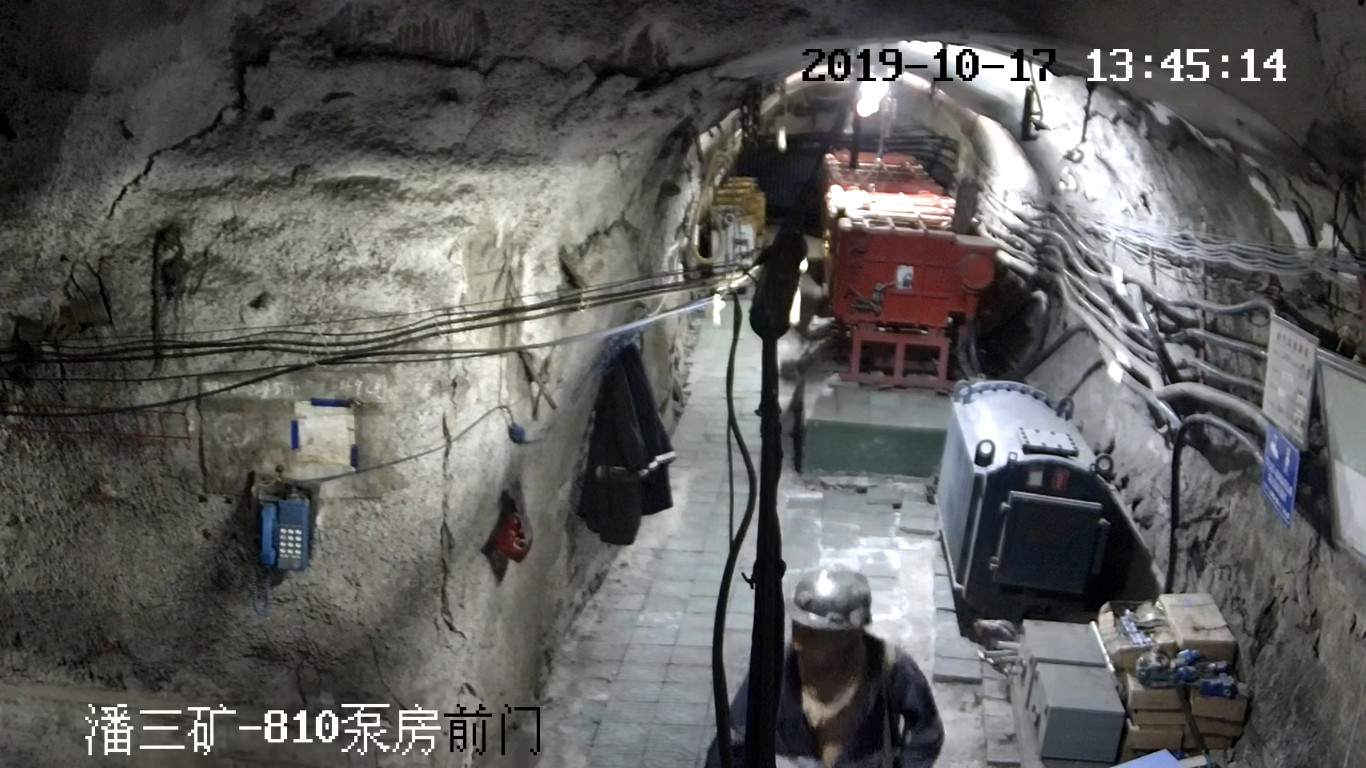helmet: (784, 569, 872, 630)
